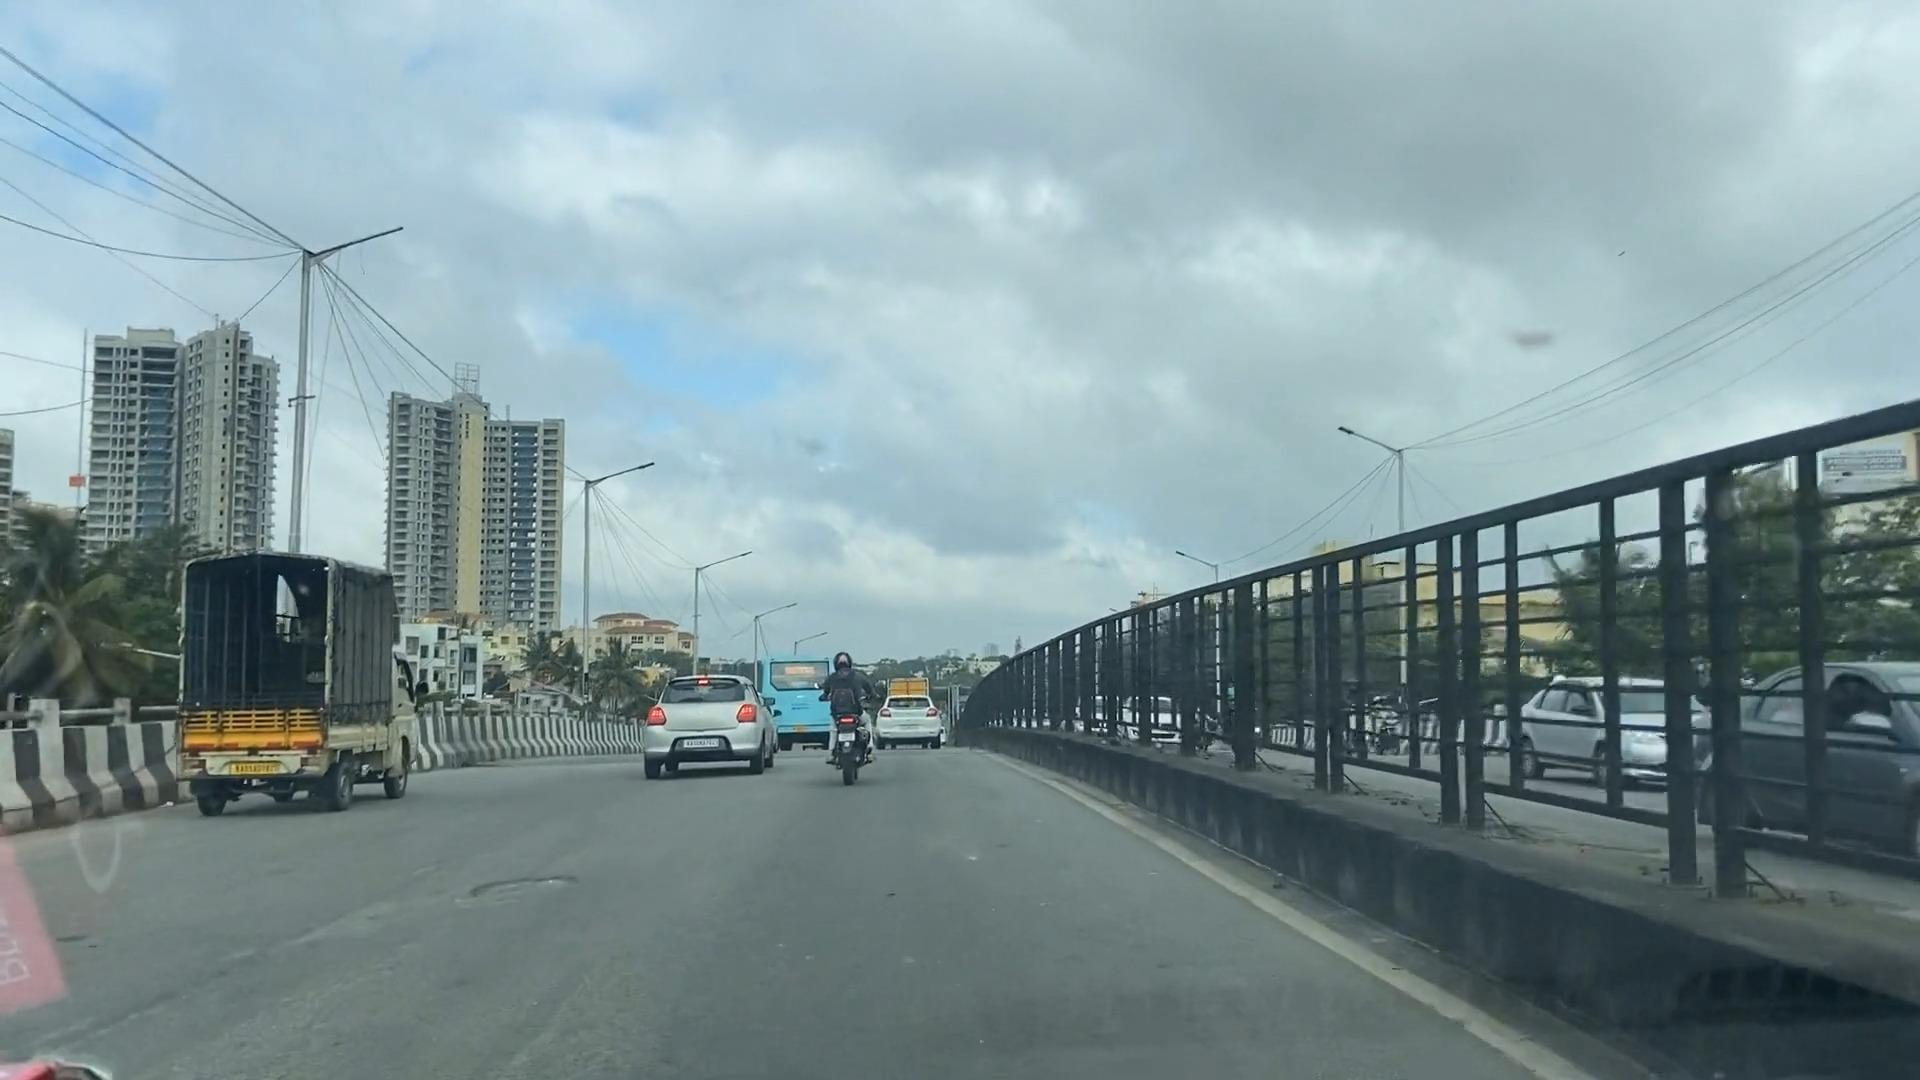HMV: (166, 549, 421, 828), (750, 609, 856, 760)
LMV: (626, 629, 785, 799), (766, 622, 894, 827), (865, 661, 961, 754)
RoadDamages: (450, 844, 597, 932)
